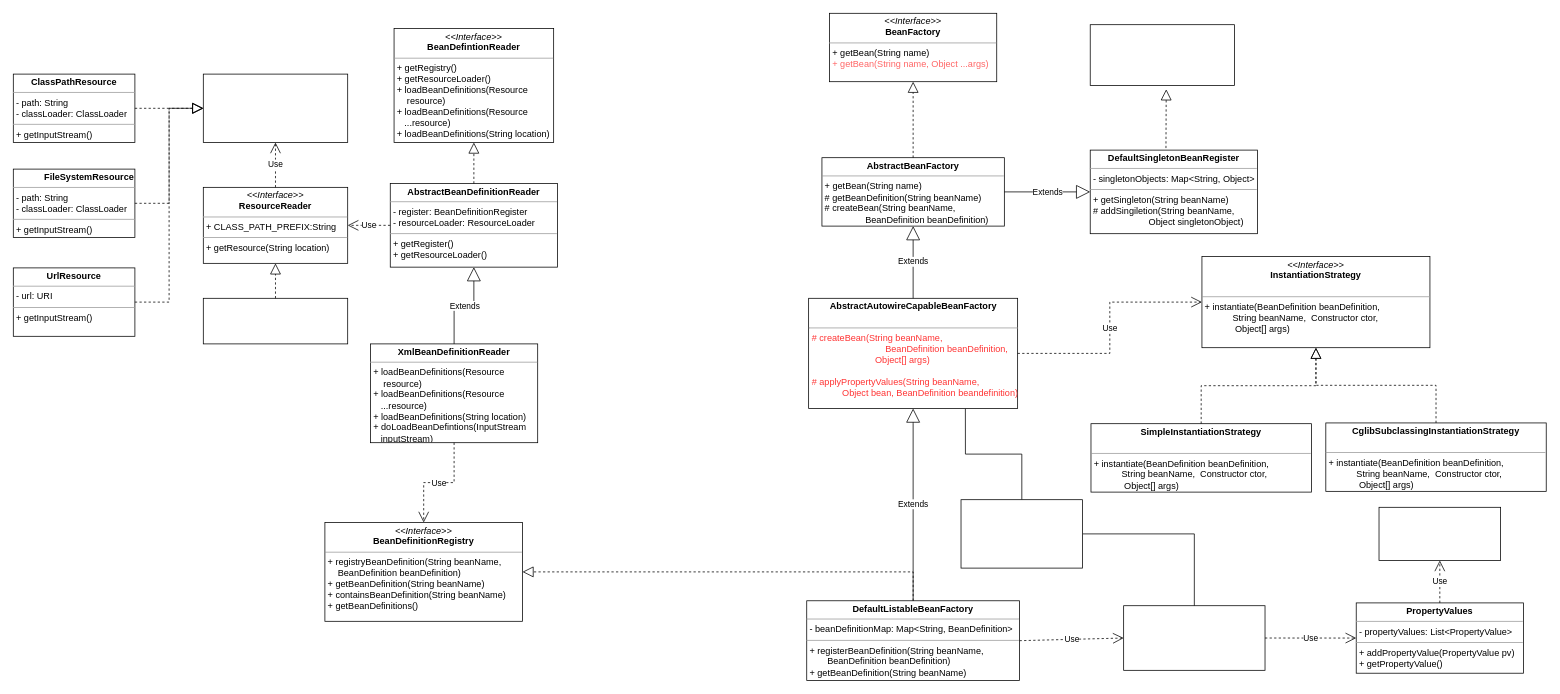
This 1560x694 diagram has some shape labels left out. The centre of each missing label's shape, as x and y in pixels:
"<<Interface>> Resource + getInputStream()" belongs at point (275, 107).
"<<Interface>> SingletonBeanRegister + getSingleton(String beanName)" belongs at point (1162, 55).
"BeanDefinition - beanClass: Class - propertyValues: PropertyValues" belongs at point (1194, 637).
"BeanReference + beanName: String + getBeanName()" belongs at point (1021, 533).
"DefaultResourceLoader + getResource(String location)" belongs at point (275, 321).
"PropertyValue - name: String - value: Object" belongs at point (1439, 533).
